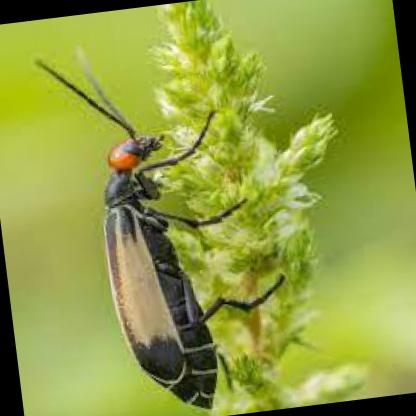blister beetle: (35, 51, 250, 411)
